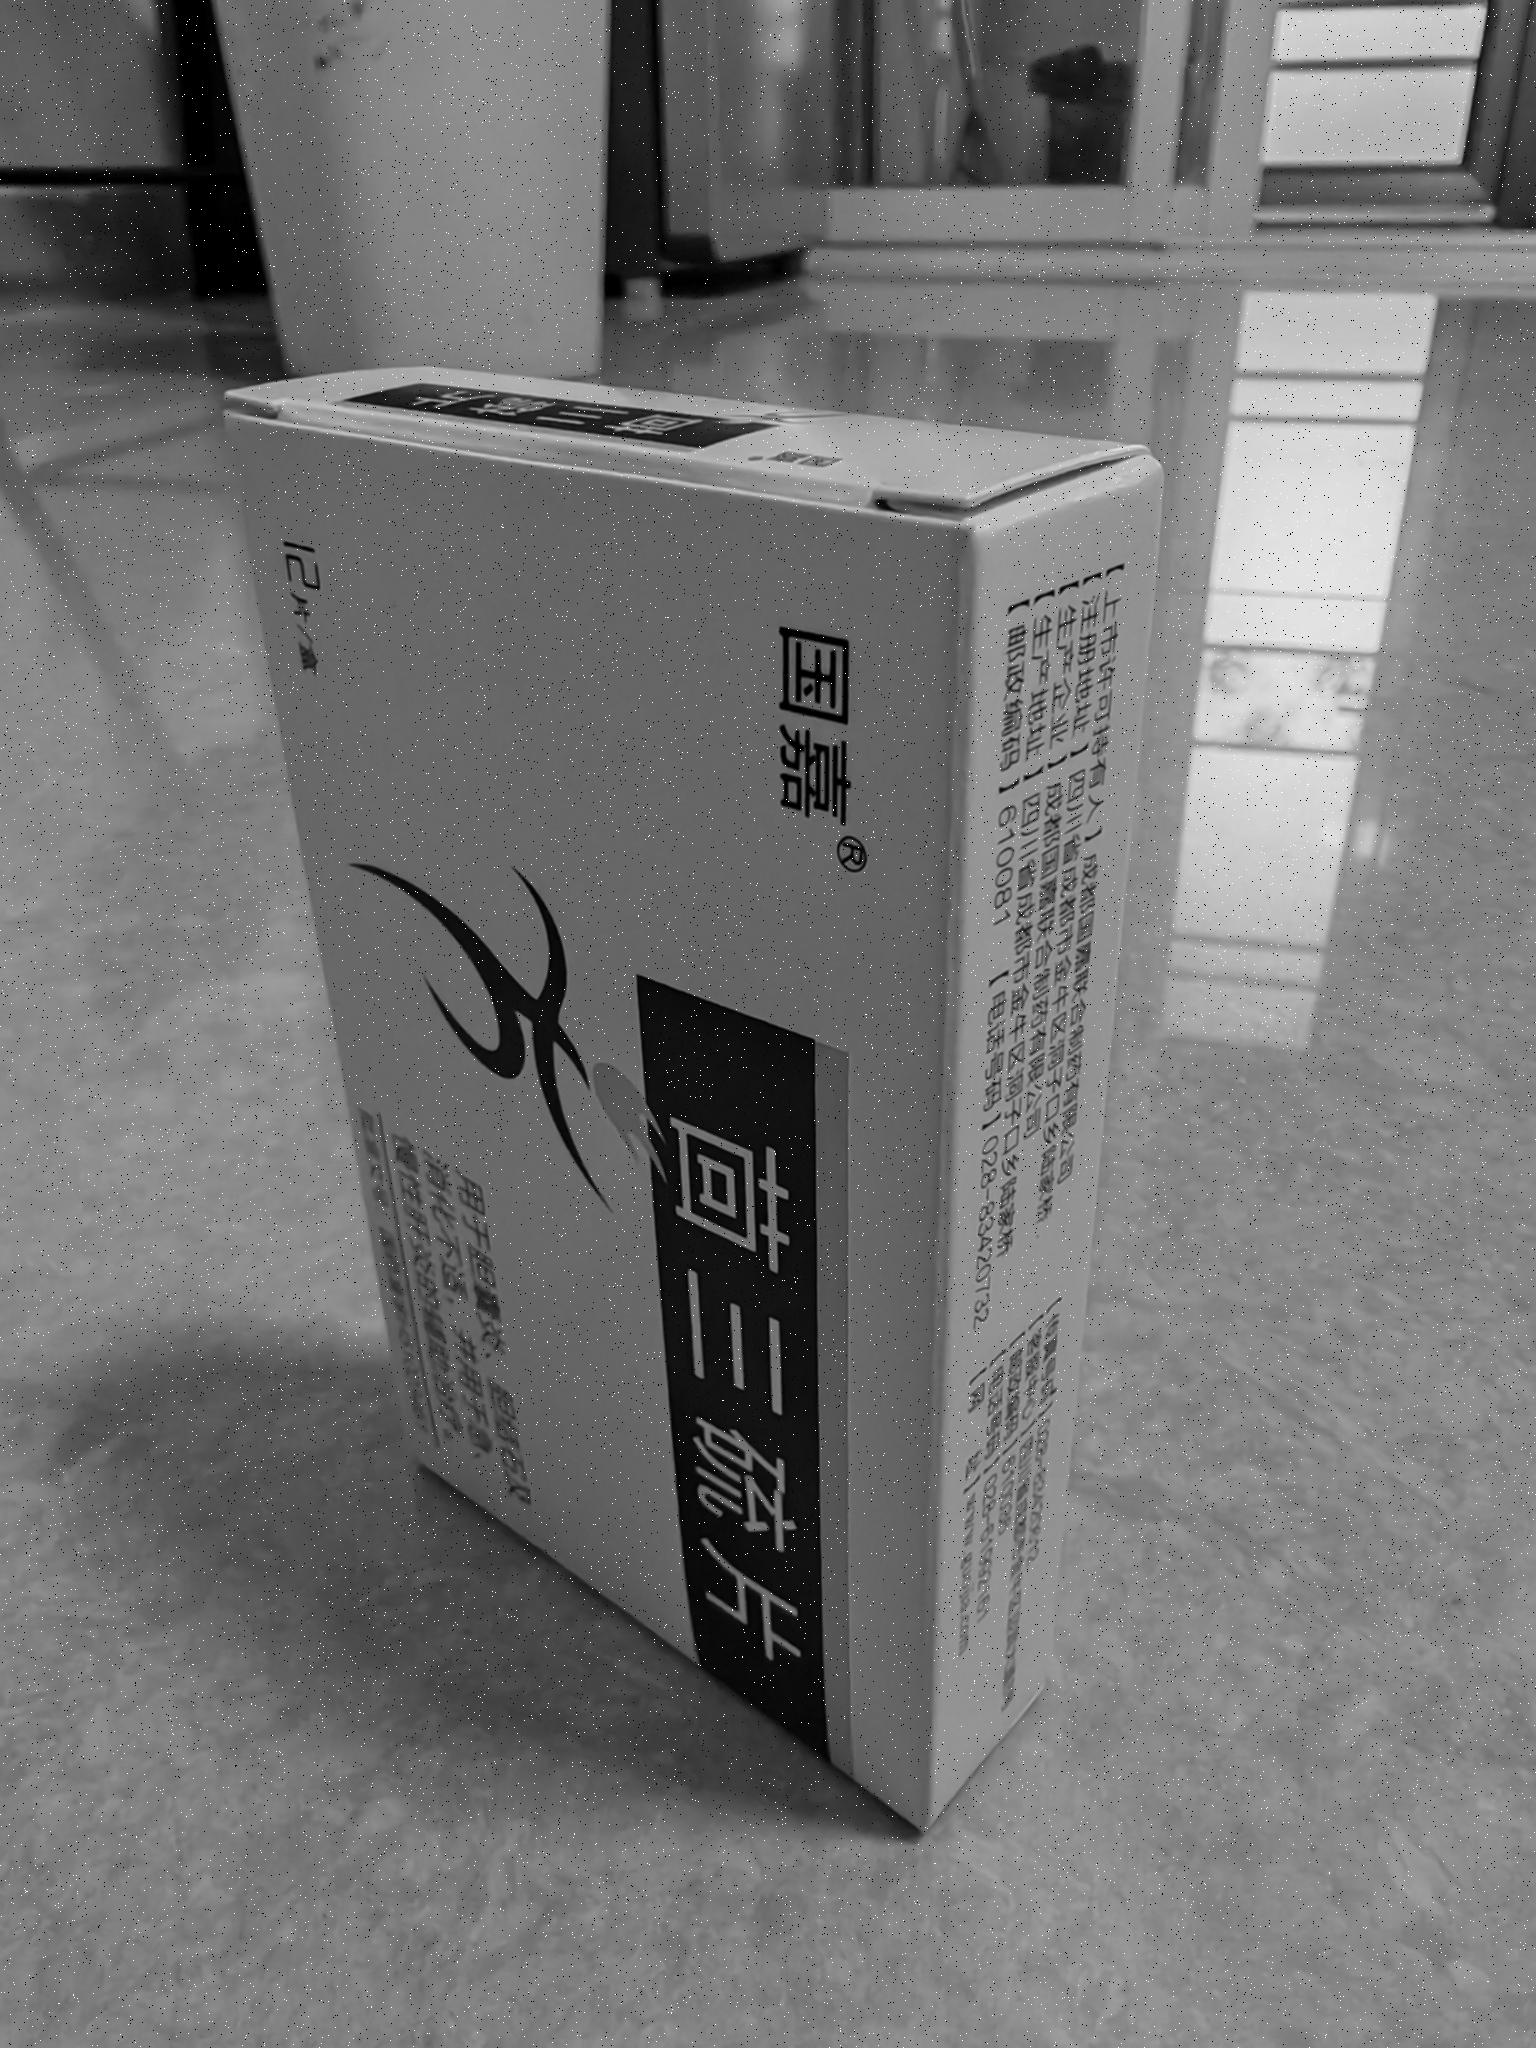Medicine4: (203, 332, 1175, 1858)
